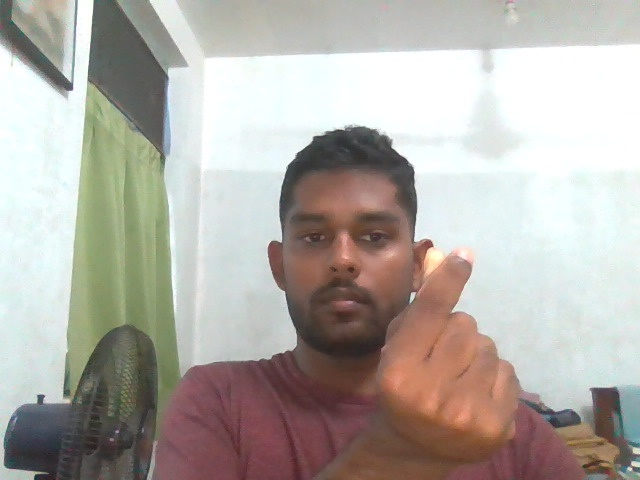iloveyou: (374, 241, 521, 456)
